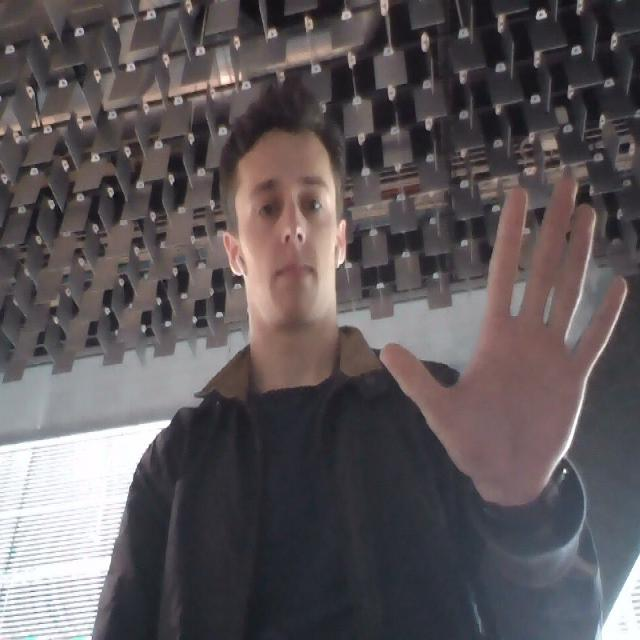backward: (377, 120, 620, 496)
